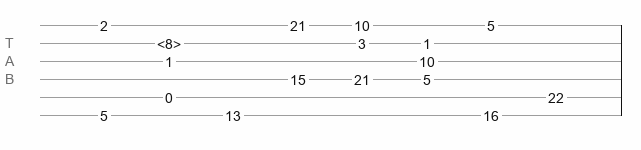0: (165, 90, 173, 100)
1: (165, 54, 173, 64), (423, 36, 431, 46)
10: (354, 18, 370, 28), (419, 54, 435, 64)
13: (225, 108, 241, 118)
15: (290, 72, 306, 82)
16: (483, 108, 499, 118)
2: (100, 18, 108, 28)
21: (290, 18, 306, 28), (354, 72, 370, 82)
22: (548, 90, 564, 100)
3: (358, 36, 366, 46)
5: (100, 108, 108, 118), (423, 72, 431, 82), (487, 18, 495, 28)
harmonic: (157, 36, 181, 46)
